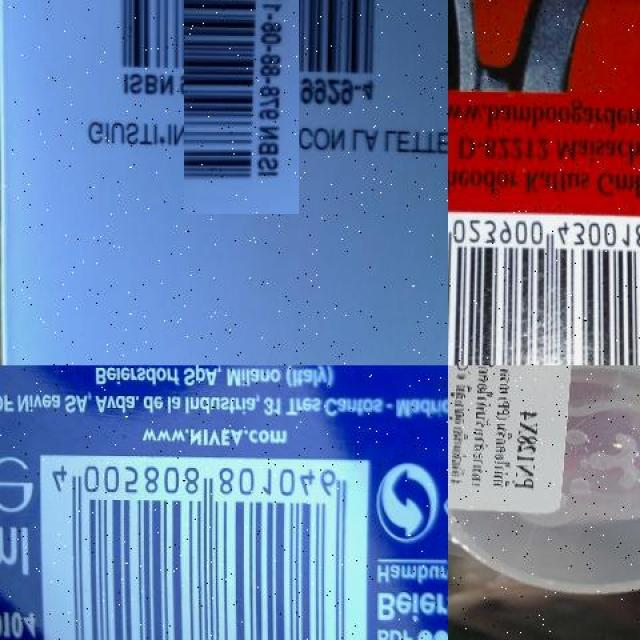Barcode: (39, 453, 369, 640), (134, 0, 348, 165), (448, 215, 640, 365)
